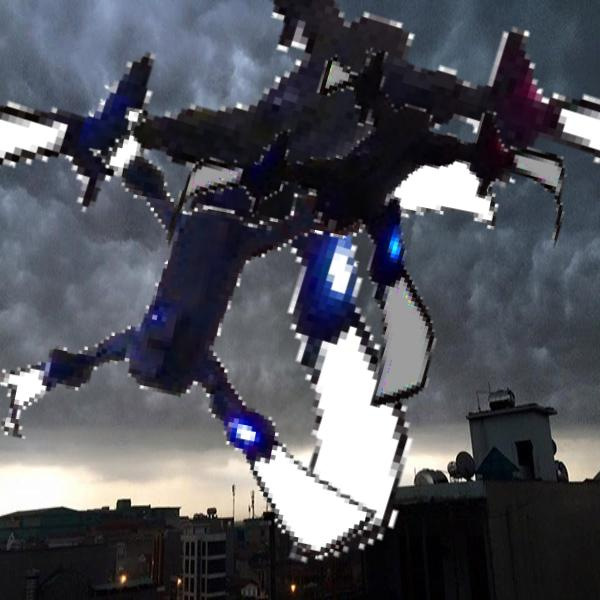drone: (8, 76, 485, 553), (158, 35, 561, 438)
